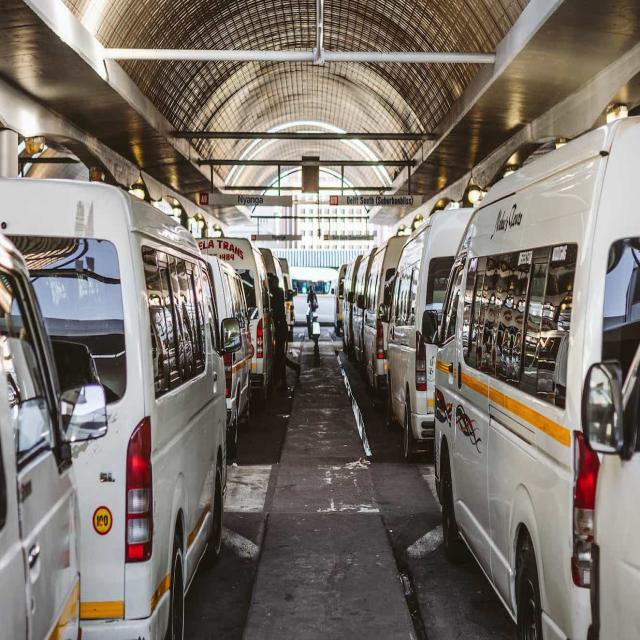MiniBus taxi: (1, 174, 246, 633), (435, 114, 640, 640)
